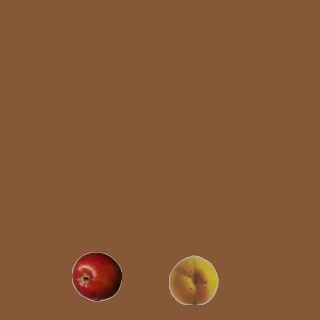Apple Braeburn: (71, 251, 121, 301)
Peach 2: (168, 254, 218, 304)
